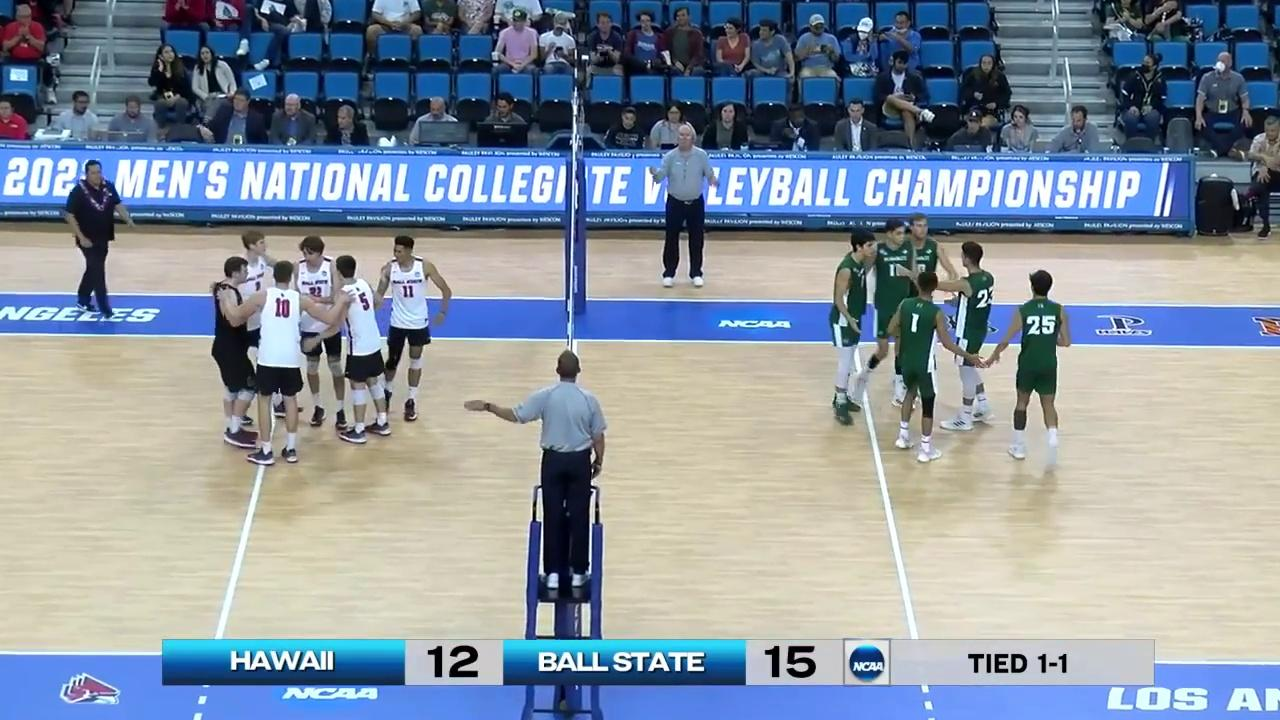player: (376, 238, 452, 424), (998, 273, 1067, 469), (251, 265, 314, 465), (891, 271, 955, 461), (330, 259, 394, 448), (944, 246, 1006, 432), (823, 235, 880, 431), (293, 239, 347, 432), (208, 255, 262, 447), (896, 214, 946, 400), (866, 223, 916, 409), (234, 232, 280, 421)
refree: (519, 351, 605, 593), (656, 117, 716, 287)
